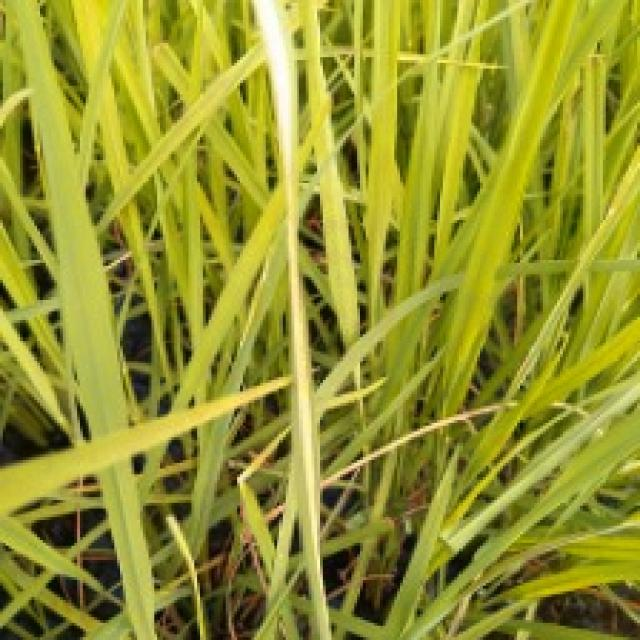Unhealthy: (250, 2, 329, 640)
